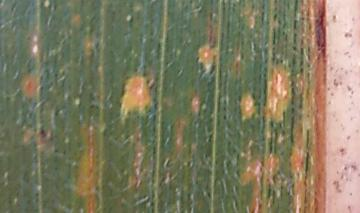tarspot: (37, 128, 50, 139)
